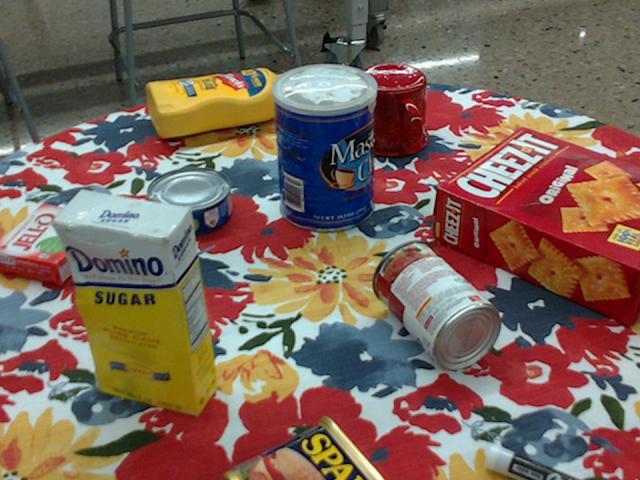cracker_box: (433, 127, 639, 327)
gelatin_box: (0, 206, 108, 288)
large_marker: (486, 442, 583, 479)
master_chef_can: (272, 64, 377, 233)
mug: (351, 64, 428, 157)
mustard_bottle: (144, 68, 304, 137)
potted_meat_can: (222, 416, 387, 479)
sugar_box: (51, 188, 219, 416)
tomato_soup_can: (372, 240, 503, 370)
tuna_fish_can: (145, 168, 230, 237)
